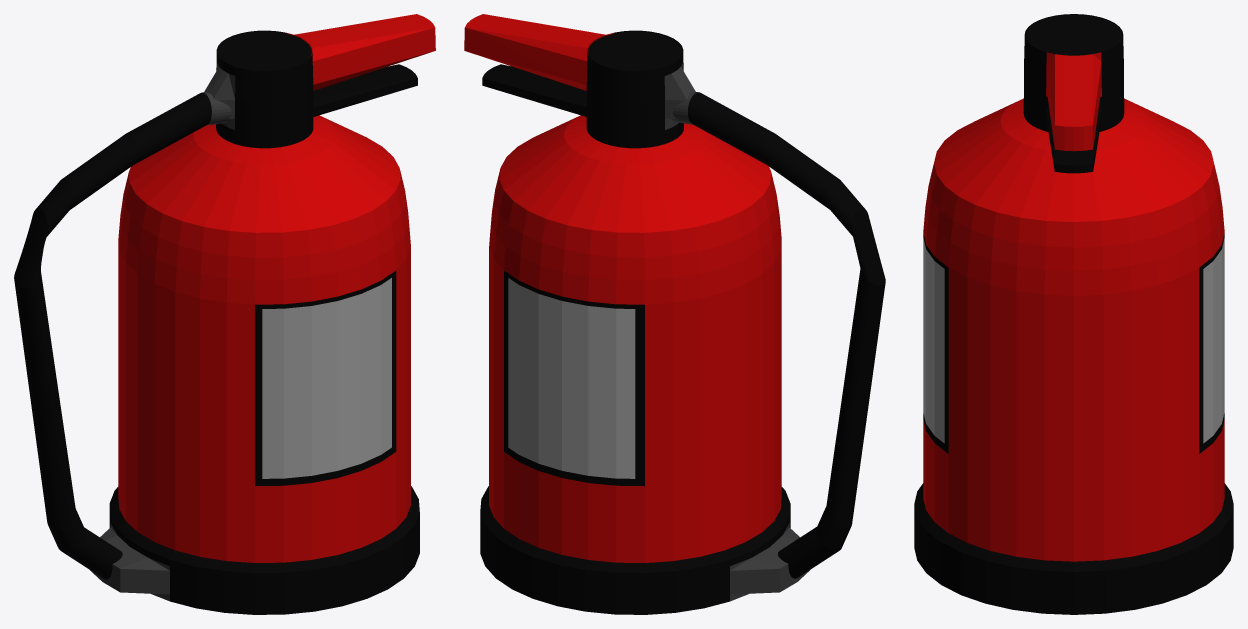
Rendered from Feuerloescher.dae.
3 views of the same model, side by side, from view 1: azimuth 30°, elevation 25°; view 2: azimuth 150°, elevation 25°; view 3: azimuth 270°, elevation 25° (orthographic). The views are drawn at different scales.
Parts seen in each view (by area): view 1: Cylinder; view 2: Cylinder; view 3: Cylinder.
Boxes of the visible parts, x1,y1,x2,y2 form: Cylinder: (14, 14, 435, 614); Cylinder: (464, 14, 885, 614); Cylinder: (914, 14, 1233, 614).
Size of the model in its own units: 128 by 148 by 83.48.
